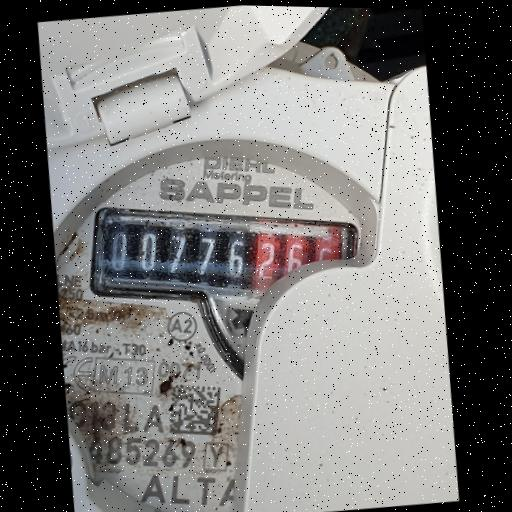0: (96, 218, 142, 282), (125, 221, 170, 285)
2: (241, 228, 290, 297)
6: (213, 227, 260, 293), (275, 232, 320, 286)
7: (183, 226, 231, 291), (153, 223, 200, 287)
border_water_meter_number: (83, 181, 367, 338)
